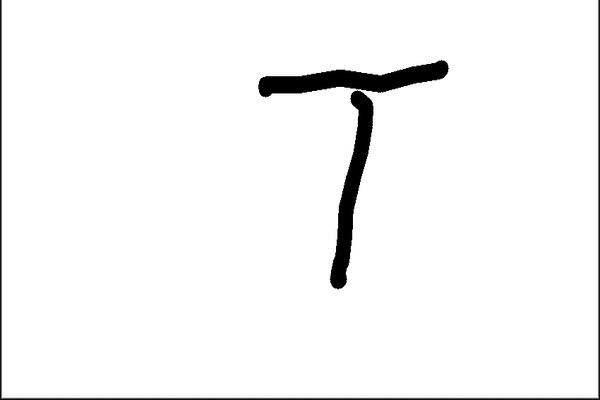T: (255, 58, 456, 290)
